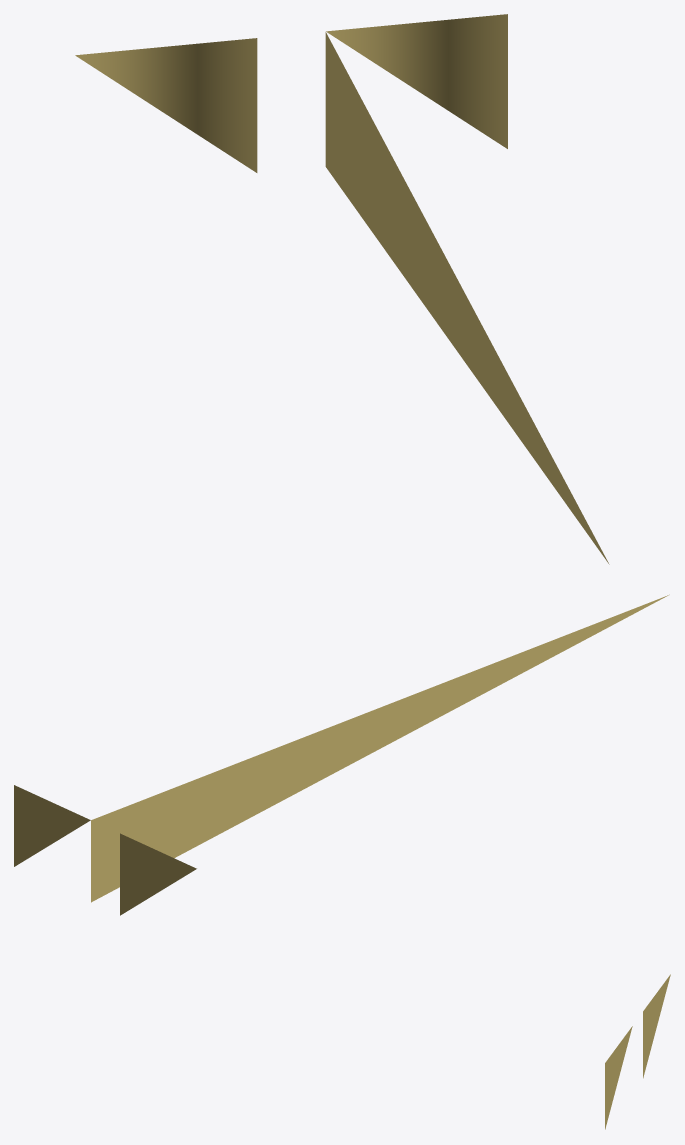
3 views of the same model, one above another, from view 1: azimuth 30°, elevation 25°; view 2: azimuth 150°, elevation 25°; view 3: azimuth 270°, elevation 25° (orthographic). The views are drawn at different scales.
Bounding box in the file's own units: 37.81 × 10 × 88.04.
